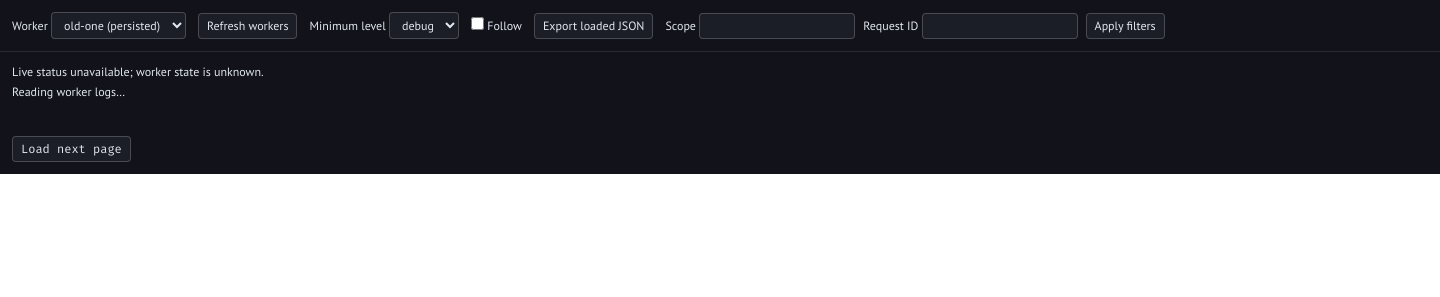
Test: ignores late results from an old worker selection
The image size is (1440, 297).
Select "old-two (persisted)" in the dropdown named "Storage worker instance" at [118, 26], box [51, 12, 186, 39]
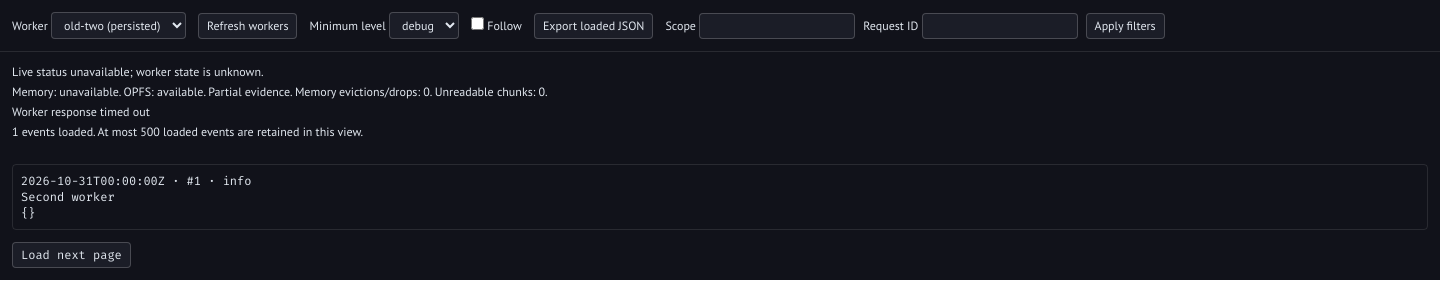
Check: the text "Second worker" is shown, box [21, 190, 115, 204]
